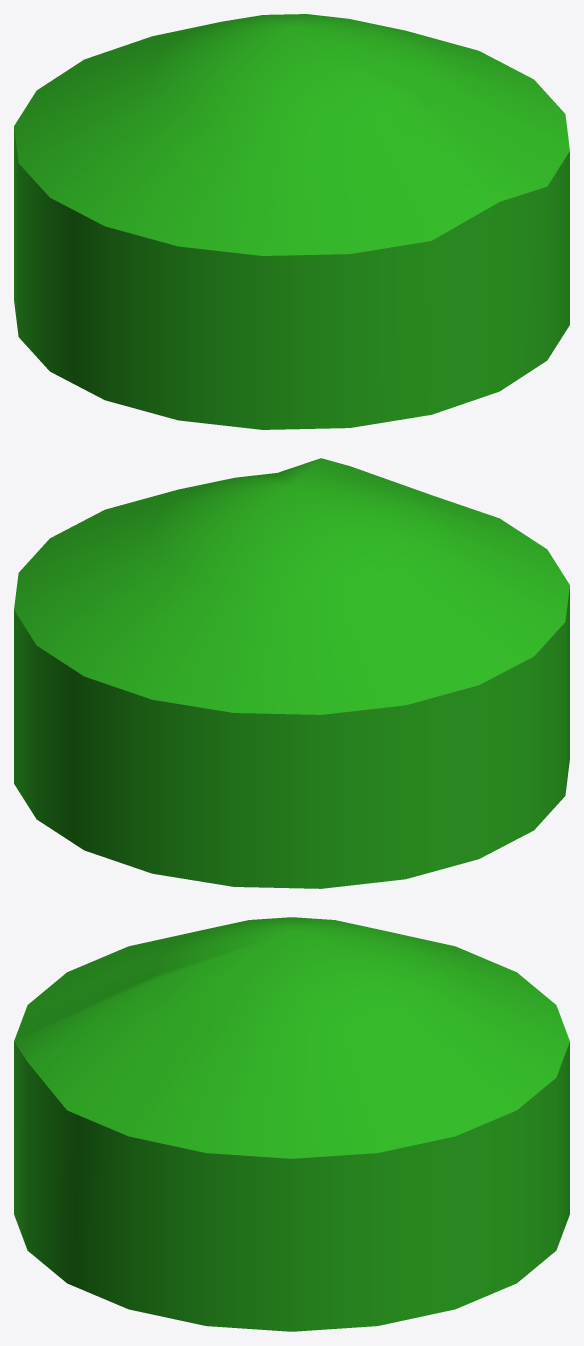
File: bonbon2.fbx
The picture shows the model from 3 angles, top to bottom: view 1: azimuth 30°, elevation 25°; view 2: azimuth 150°, elevation 25°; view 3: azimuth 270°, elevation 25°; orthographic projection.
Parts seen in each view (by area): view 1: pasted__pCylinder1; view 2: pasted__pCylinder1; view 3: pasted__pCylinder1.
Part boxes in pixels (<box>): pasted__pCylinder1: <box>14,14,569,429</box>; pasted__pCylinder1: <box>14,458,569,888</box>; pasted__pCylinder1: <box>14,917,569,1331</box>.
Bounding box in the file's own units: 2 × 1.12 × 2.
